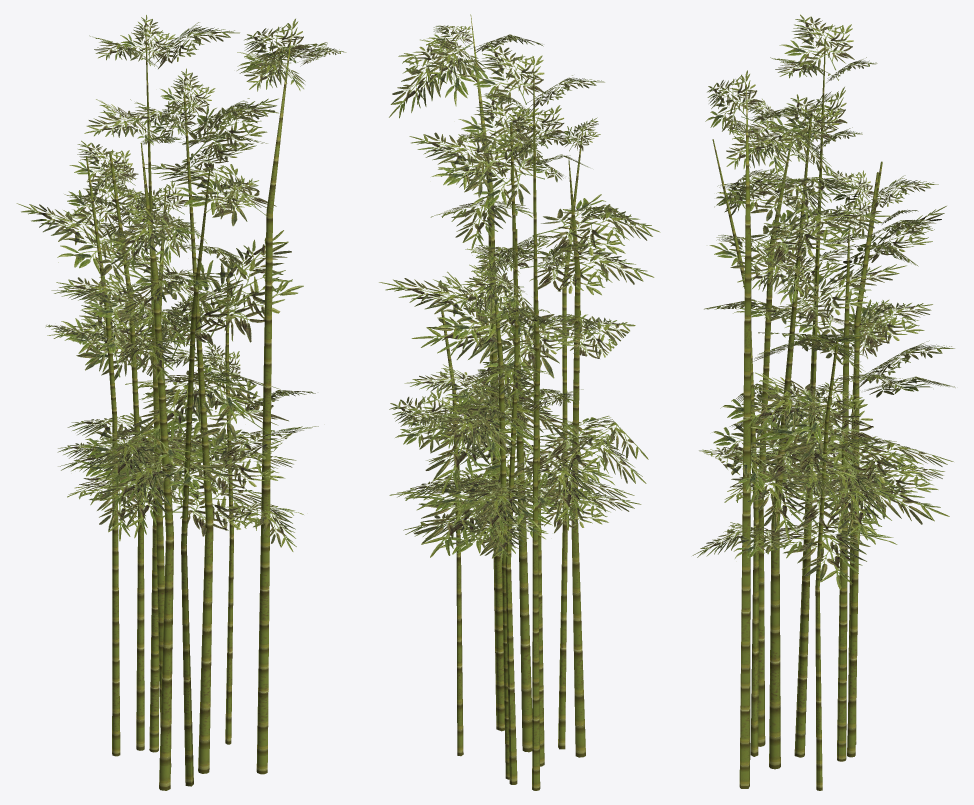
File: bamboo.gltf
The picture shows the model from 3 angles, left to right: view 1: azimuth 30°, elevation 25°; view 2: azimuth 150°, elevation 25°; view 3: azimuth 270°, elevation 25°; orthographic projection. The views are drawn at different scales.
Visible parts, largest first — view 1: Tr-户外植物17A_01; view 2: Tr-户外植物17A_01; view 3: Tr-户外植物17A_01.
Boxes of the visible parts, x1,y1,x2,y2 form: Tr-户外植物17A_01: (16,15,346,790); Tr-户外植物17A_01: (379,14,660,790); Tr-户外植物17A_01: (692,14,955,790).
Size of the model in its own units: 1.41 by 4.03 by 1.37.
1 material, 1 textured.
